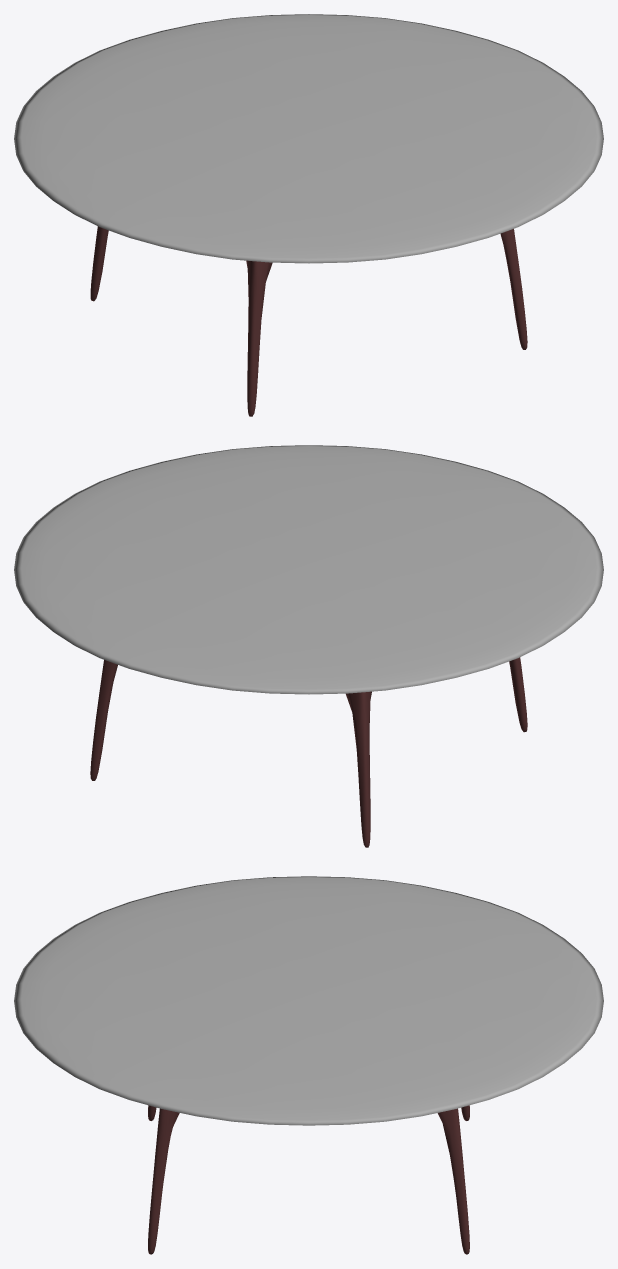
Rendered from Table.fbx.
3 renders of one model, top to bottom at view 1: azimuth 30°, elevation 25°; view 2: azimuth 150°, elevation 25°; view 3: azimuth 270°, elevation 25°, orthographic.
Visible parts, largest first — view 1: polySurface3; view 2: polySurface3; view 3: polySurface3.
Boxes of the visible parts, box(x1,y1,x2,y2) form: polySurface3: box(14, 14, 603, 416); polySurface3: box(14, 445, 603, 847); polySurface3: box(14, 876, 603, 1254).
Bounding box in the file's own units: 5.61 × 2.08 × 5.61.
